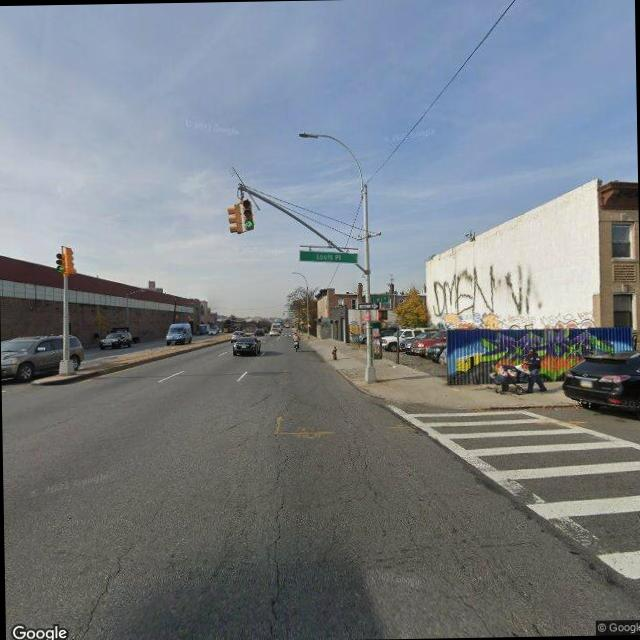pothole: (63, 498, 169, 640), (258, 438, 296, 636)
